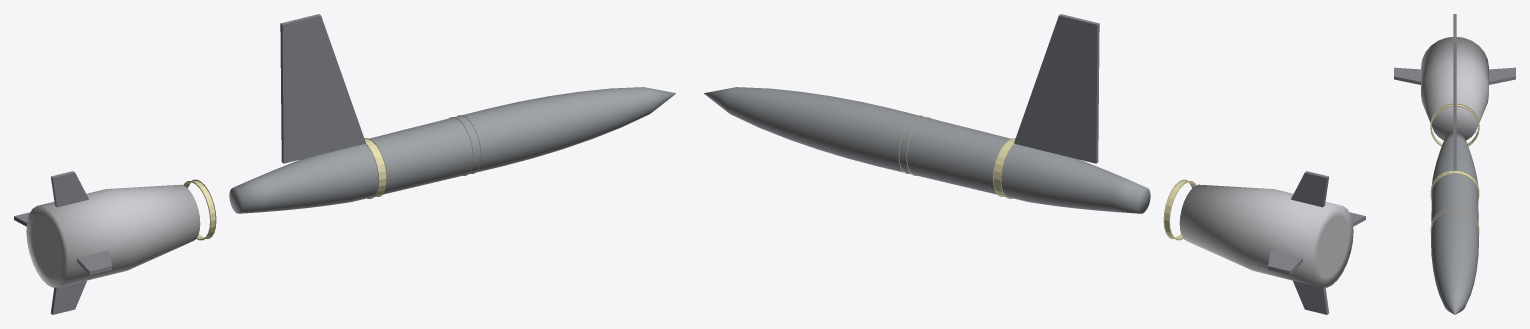
File: FR_LAM_MdCN_LOD1.fbx
3 renders of one model, left to right at view 1: azimuth 30°, elevation 25°; view 2: azimuth 150°, elevation 25°; view 3: azimuth 270°, elevation 25°, orthographic. The views are drawn at different scales.
Parts seen in each view (by area): view 1: WPN_FR_LAM_MdCN_LOD1_Body, WPN_FR_LAM_MdCN_LOD1_Tail, WPN_FR_LAM_MdCN_LOD1_Wings, WPN_FR_LAM_MdCN_LOD1_Fins, WPN_FR_LAM_MdCN_LOD1_Marking; view 2: WPN_FR_LAM_MdCN_LOD1_Body, WPN_FR_LAM_MdCN_LOD1_Tail, WPN_FR_LAM_MdCN_LOD1_Wings, WPN_FR_LAM_MdCN_LOD1_Fins, WPN_FR_LAM_MdCN_LOD1_Marking; view 3: WPN_FR_LAM_MdCN_LOD1_Body, WPN_FR_LAM_MdCN_LOD1_Tail, WPN_FR_LAM_MdCN_LOD1_Fins, WPN_FR_LAM_MdCN_LOD1_Marking, WPN_FR_LAM_MdCN_LOD1_Wings.
Boxes of the visible parts, bbox=[...] form: WPN_FR_LAM_MdCN_LOD1_Body: bbox=[229, 87, 675, 213]; WPN_FR_LAM_MdCN_LOD1_Tail: bbox=[26, 184, 200, 287]; WPN_FR_LAM_MdCN_LOD1_Wings: bbox=[280, 14, 365, 163]; WPN_FR_LAM_MdCN_LOD1_Fins: bbox=[14, 171, 111, 314]; WPN_FR_LAM_MdCN_LOD1_Marking: bbox=[183, 115, 481, 240]; WPN_FR_LAM_MdCN_LOD1_Body: bbox=[704, 87, 1150, 213]; WPN_FR_LAM_MdCN_LOD1_Tail: bbox=[1179, 184, 1353, 287]; WPN_FR_LAM_MdCN_LOD1_Wings: bbox=[1014, 14, 1099, 163]; WPN_FR_LAM_MdCN_LOD1_Fins: bbox=[1268, 171, 1365, 314]; WPN_FR_LAM_MdCN_LOD1_Marking: bbox=[898, 115, 1196, 240]; WPN_FR_LAM_MdCN_LOD1_Body: bbox=[1431, 132, 1478, 314]; WPN_FR_LAM_MdCN_LOD1_Tail: bbox=[1421, 37, 1488, 140]; WPN_FR_LAM_MdCN_LOD1_Fins: bbox=[1394, 14, 1515, 84]; WPN_FR_LAM_MdCN_LOD1_Marking: bbox=[1430, 103, 1479, 233]; WPN_FR_LAM_MdCN_LOD1_Wings: bbox=[1453, 26, 1456, 170].
Size of the model in its own units: 6.5 by 1.35 by 2.31.
